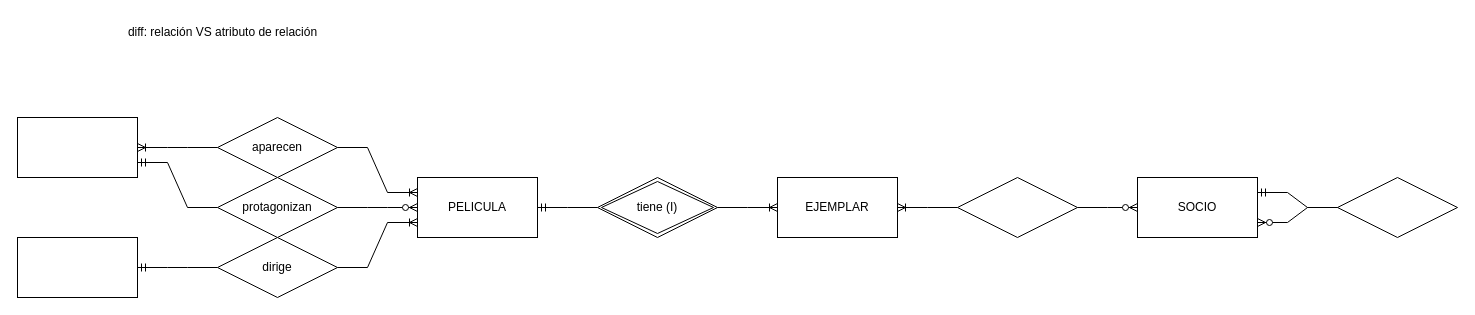
This 1475x315 diagram has some shape labels left out. The shapes that lost their labels are listed below. From the top down, each one's box as (x1, y1, x2, y2) in pixels, then its label:
(16, 116, 138, 178): ACTOR
(956, 176, 1078, 238): alquiler
(1336, 176, 1458, 238): avala
(16, 236, 138, 298): DIRECTOR
